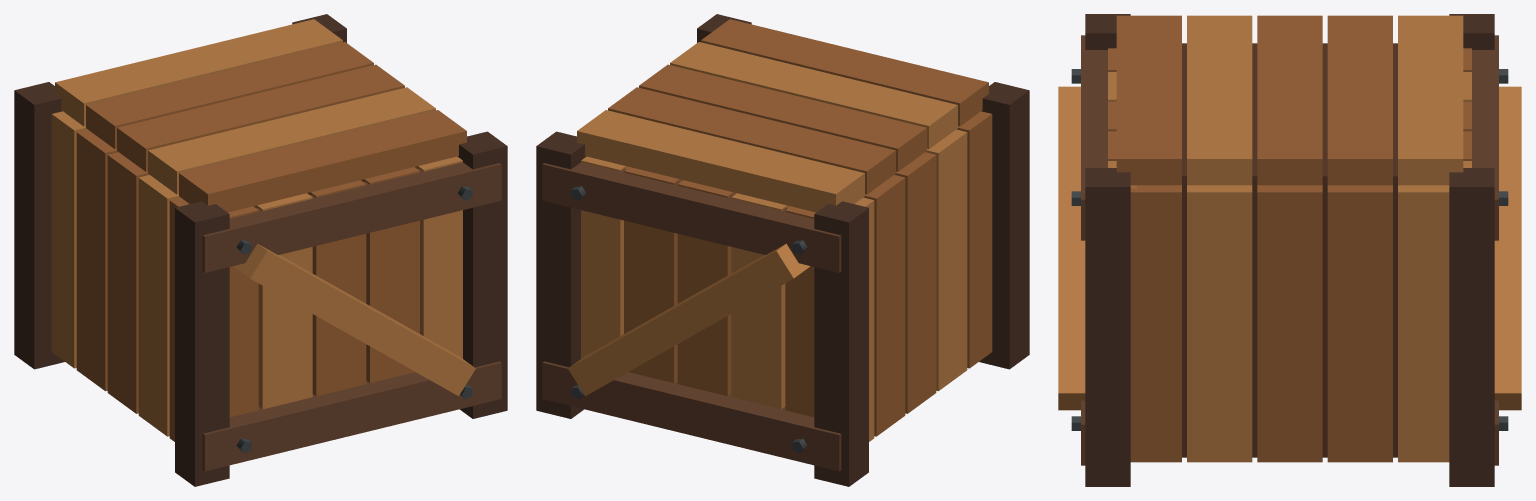
File: 20_farm_crate.fbx
3 views of the same model, side by side, from view 1: azimuth 30°, elevation 25°; view 2: azimuth 150°, elevation 25°; view 3: azimuth 270°, elevation 25° (orthographic). The views are drawn at different scales.
Parts seen in each view (by area): view 1: 20_farm_crate; view 2: 20_farm_crate; view 3: 20_farm_crate.
Part boxes in pixels (<box>): 20_farm_crate: <box>14,14,507,486</box>; 20_farm_crate: <box>536,14,1029,486</box>; 20_farm_crate: <box>1058,14,1521,486</box>.
Size of the model in its own units: 0.99 by 0.835 by 1.12.
1 material, 1 textured.
